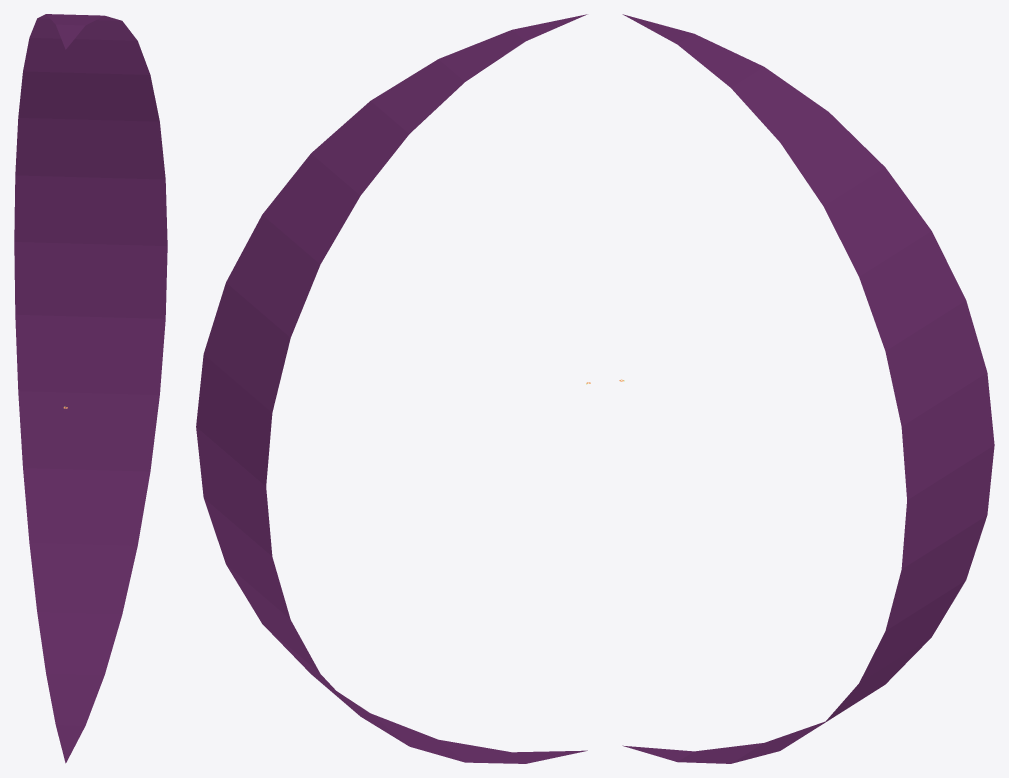
File: ring2.glb
3 renders of one model, left to right at view 1: azimuth 30°, elevation 25°; view 2: azimuth 150°, elevation 25°; view 3: azimuth 270°, elevation 25°, orthographic. The views are drawn at different scales.
Visible parts, largest first — view 1: wall; view 2: wall; view 3: wall.
Part boxes in pixels (left/top/right/bottom): wall: left=14, top=14, right=167, bottom=763; wall: left=196, top=14, right=587, bottom=763; wall: left=622, top=14, right=994, bottom=763.
Bounding box in the file's own units: 157 × 440 × 205.
Materials: 1 (1 with a texture image).
